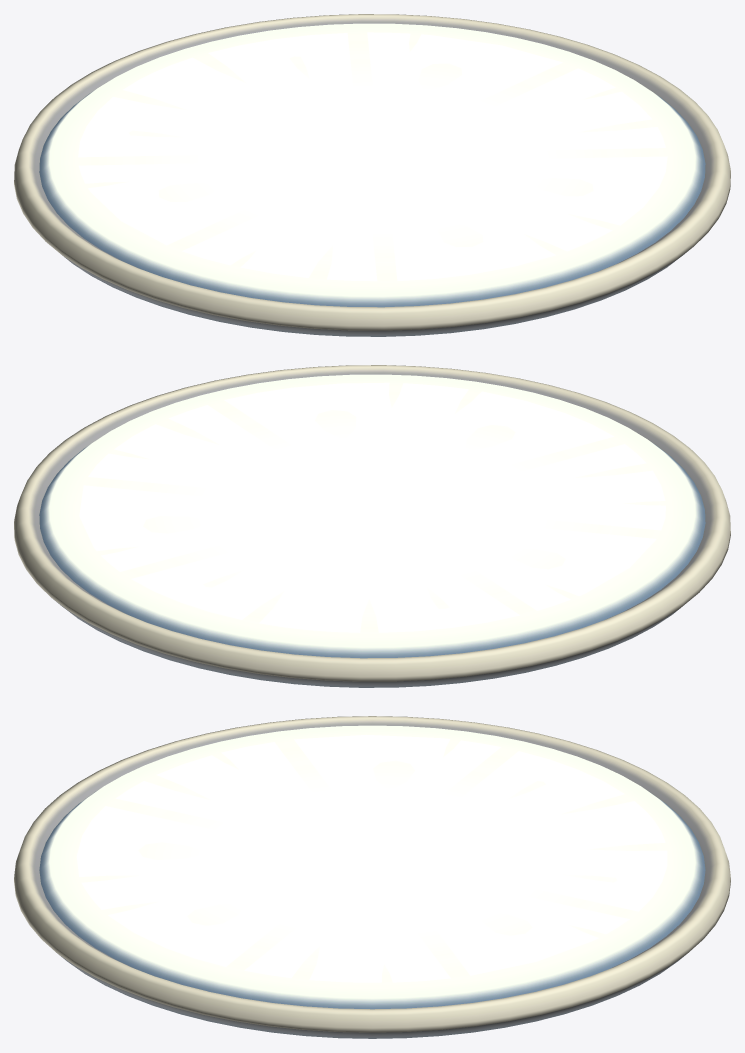
Rendered from Pod_Round_A.gltf.
3 views of the same model, one above another, from view 1: azimuth 30°, elevation 25°; view 2: azimuth 150°, elevation 25°; view 3: azimuth 270°, elevation 25° (orthographic).
Parts seen in each view (by area): view 1: Pod_Round_A; view 2: Pod_Round_A; view 3: Pod_Round_A.
Part boxes in pixels (<box>): Pod_Round_A: <box>14,14,730,336</box>; Pod_Round_A: <box>14,365,730,687</box>; Pod_Round_A: <box>14,716,730,1038</box>.
Bounding box in the file's own units: 1.75 × 0.1309 × 1.75.
Materials: 2 (2 with a texture image).
